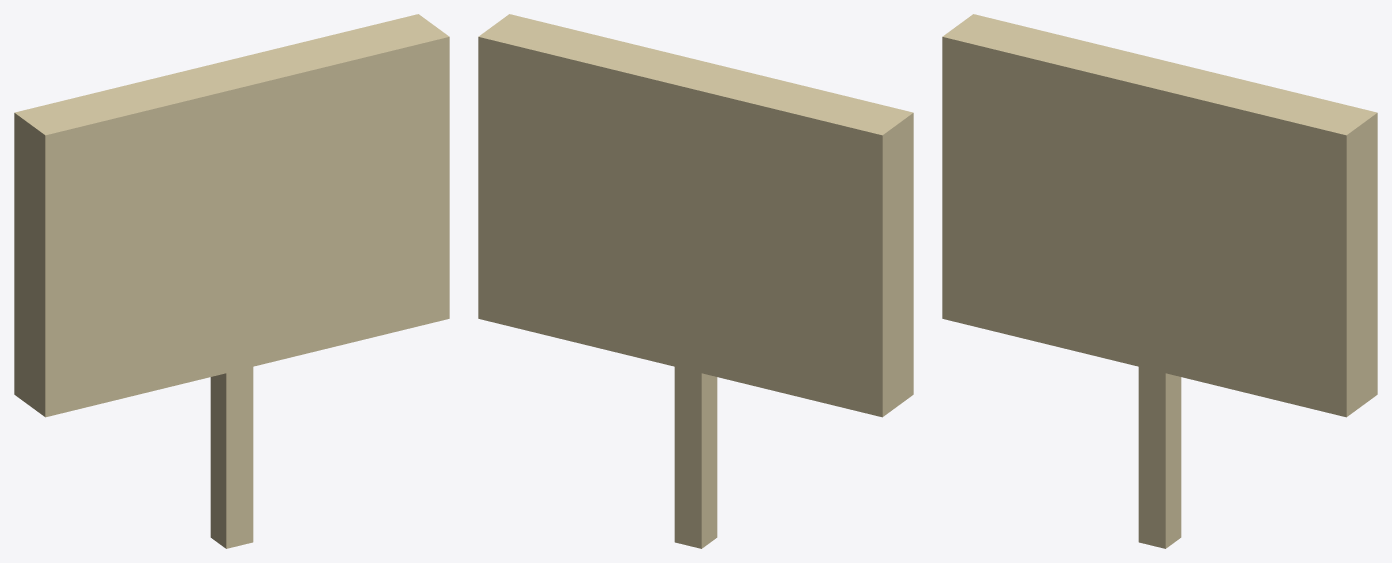
The model's file is sign_whole.glb.
The picture shows the model from 3 angles, left to right: view 1: azimuth 30°, elevation 25°; view 2: azimuth 150°, elevation 25°; view 3: azimuth 330°, elevation 25°; orthographic projection.
Parts seen in each view (by area): view 1: sign_whole_0; view 2: sign_whole_0; view 3: sign_whole_0.
Part boxes in pixels (x1=…): sign_whole_0: x1=14, y1=14, x2=449, y2=548; sign_whole_0: x1=478, y1=14, x2=913, y2=548; sign_whole_0: x1=942, y1=14, x2=1377, y2=548.
Bounding box in the file's own units: 0.6 × 0.66 × 0.08.
